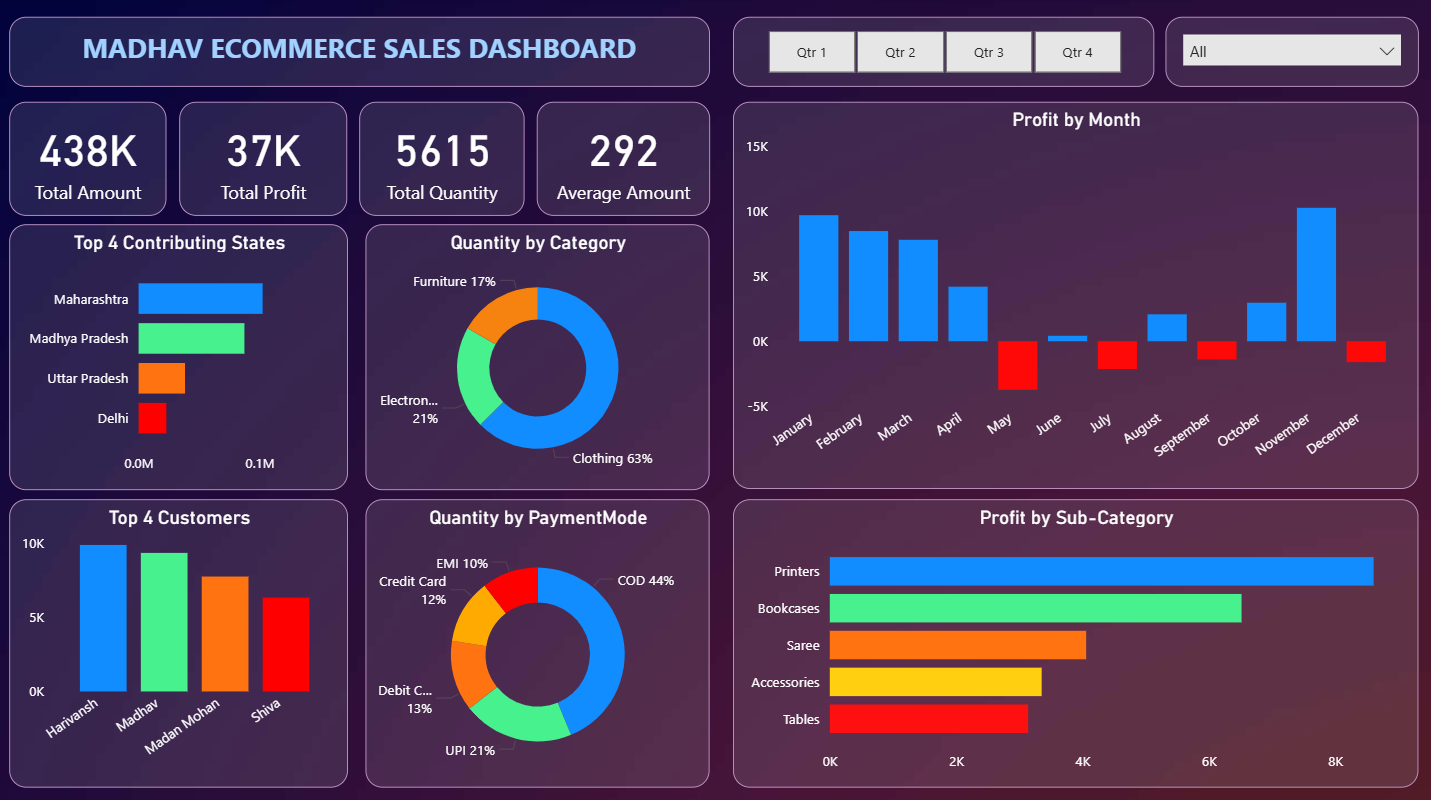

The dashboard page shown, as its layout file describes it:
{"tool":"powerbi","page":{"name":"Dashboard","canvas":[1280,720],"ordinal":0},"visuals":[{"type":"textbox","box":[9.7,16.9,623.7,62.7],"z":0},{"type":"columnChart","title":"Profit by Month","fields":{"Category":["Orders.Order Date.Variation.Date Hierarchy.Month"],"Y":["Details.Profit"]},"box":[655.1,92.9,610.5,345],"z":1000},{"type":"barChart","title":"Profit by Sub-Category","fields":{"Category":["Details.Sub-Category"],"Y":["Details.Profit"]},"box":[655.1,446.4,610.5,257],"z":2000},{"type":"donutChart","title":"Quantity by Category","fields":{"Category":["Details.Category"],"Y":["Details.Quantity"]},"box":[326.9,201.5,306.4,236.5],"z":3000},{"type":"donutChart","title":"Quantity by PaymentMode","fields":{"Y":["Details.Quantity"],"Category":["Details.PaymentMode"]},"box":[326.9,446.4,306.4,257],"z":4000},{"type":"card","fields":{"Values":["Details.Amount"]},"box":[9.7,92.9,139.9,101.3],"z":5000},{"type":"card","fields":{"Values":["Details.Profit"]},"box":[161.7,92.9,149.6,101.3],"z":6000},{"type":"card","fields":{"Values":["Details.Quantity"]},"box":[322.1,92.9,147.2,101.3],"z":7000},{"type":"card","fields":{"Values":["Details.Amount"]},"box":[480.2,92.9,154.4,101.3],"z":8000},{"type":"barChart","title":"Top 4 Contributing States","fields":{"Category":["Orders.State"],"Y":["Details.Amount"]},"box":[9.7,201.5,301.6,236.5],"z":9000},{"type":"columnChart","title":"Top 4 Customers","fields":{"Category":["Orders.CustomerName"],"Y":["Details.Amount"]},"box":[9.7,446.4,301.6,257],"z":10000},{"type":"slicer","fields":{"Values":["Orders.Order Date.Variation.Date Hierarchy.Quarter"]},"box":[655.1,16.9,375.2,62.7],"z":11000},{"type":"slicer","fields":{"Values":["Orders.State"]},"box":[1040,16.9,225.6,62.7],"z":12000}]}

Visuals, with their boxes in screenshot pixels (x1, y1, x2, y2), scaled from the page's 1280x720 canvas onto the 1431x800 screenshot:
textbox: BBox(11, 19, 708, 88)
"Profit by Month" columnChart: BBox(732, 103, 1415, 487)
"Profit by Sub-Category" barChart: BBox(732, 496, 1415, 782)
"Quantity by Category" donutChart: BBox(365, 224, 708, 487)
"Quantity by PaymentMode" donutChart: BBox(365, 496, 708, 782)
card - Details.Amount: BBox(11, 103, 167, 216)
card - Details.Profit: BBox(181, 103, 348, 216)
card - Details.Quantity: BBox(360, 103, 525, 216)
card - Details.Amount: BBox(537, 103, 709, 216)
"Top 4 Contributing States" barChart: BBox(11, 224, 348, 487)
"Top 4 Customers" columnChart: BBox(11, 496, 348, 782)
slicer - Orders.Order Date.Variation.Date Hierarchy.Quarter: BBox(732, 19, 1152, 88)
slicer - Orders.State: BBox(1163, 19, 1415, 88)
